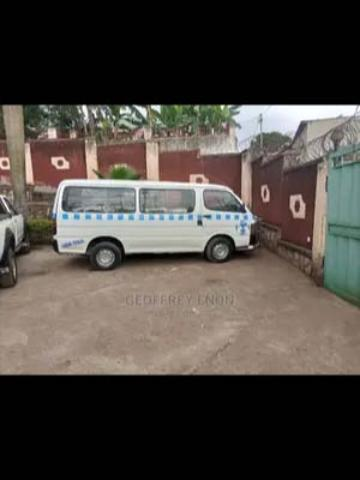van: (50, 177, 260, 271)
